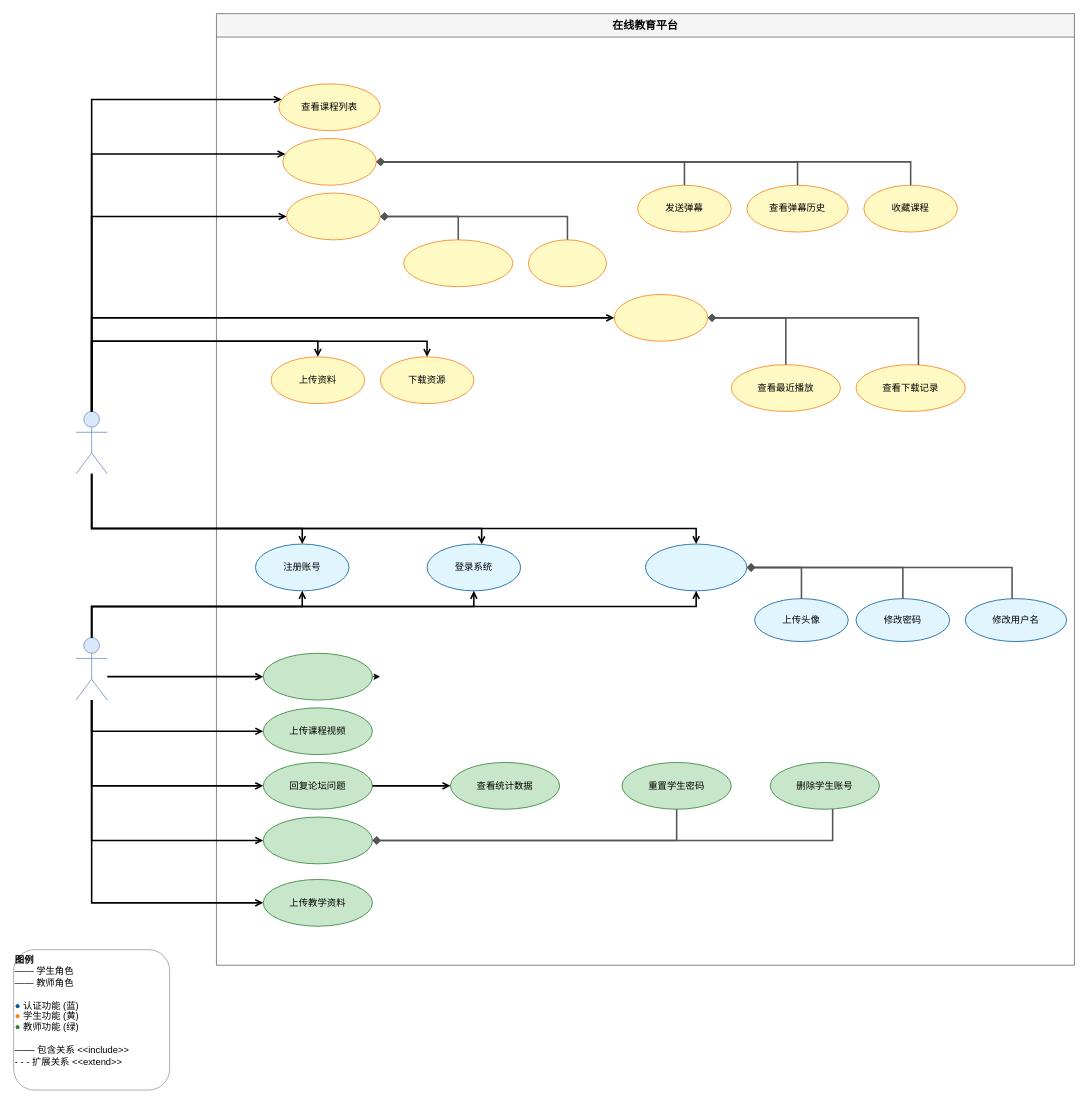
Image size: 1088x1104. Some labels were removed from this diagram. Each missing label, with the box of its shape:
发布问题/评论: (403, 239, 513, 287)
学生: (75, 411, 107, 474)
播放视频: (282, 138, 376, 185)
教师: (75, 637, 107, 700)
查看动态: (613, 294, 708, 341)
浏览论坛: (286, 192, 380, 240)
点赞: (528, 239, 606, 287)
管理学生信息: (262, 816, 372, 864)
管理课程内容: (262, 652, 372, 700)
编辑个人资料: (645, 543, 747, 591)
